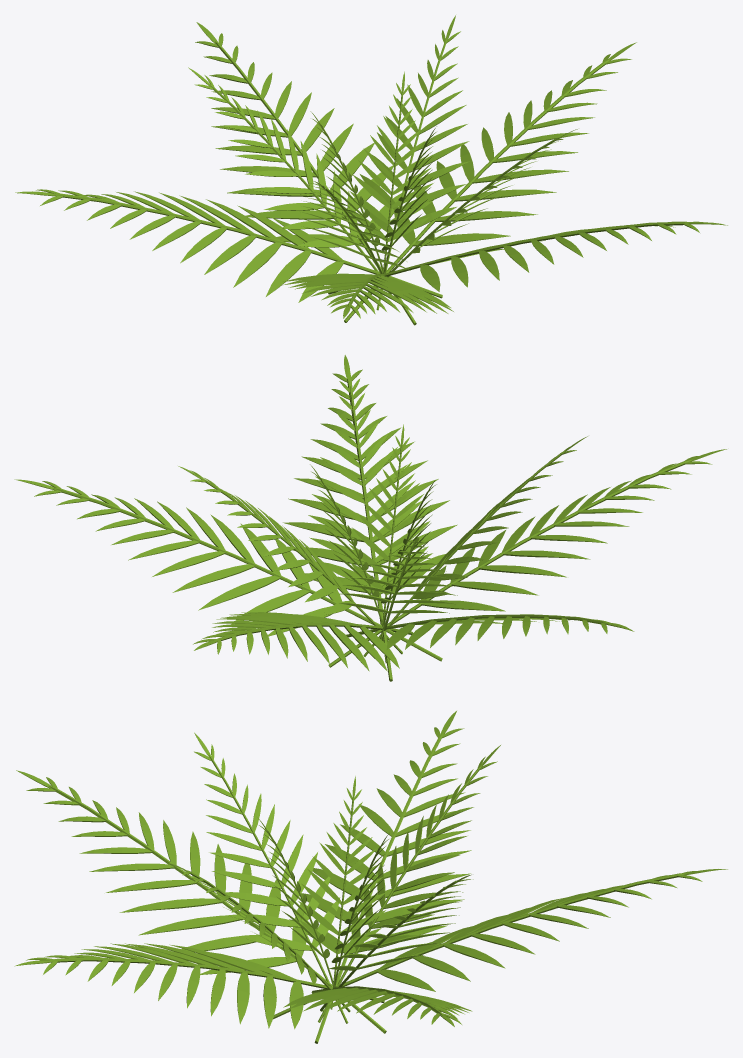
Rendered from Farn hellgrün.fbx.
3 renders of one model, top to bottom at view 1: azimuth 30°, elevation 25°; view 2: azimuth 150°, elevation 25°; view 3: azimuth 270°, elevation 25°, orthographic. The views are drawn at different scales.
Parts seen in each view (by area): view 1: Farn_hellgrün; view 2: Farn_hellgrün; view 3: Farn_hellgrün.
Boxes of the visible parts, <box> form: Farn_hellgrün: <box>15,15,727,325</box>; Farn_hellgrün: <box>14,355,726,681</box>; Farn_hellgrün: <box>14,711,727,1043</box>.
Size of the model in its own units: 503 by 160 by 479.
